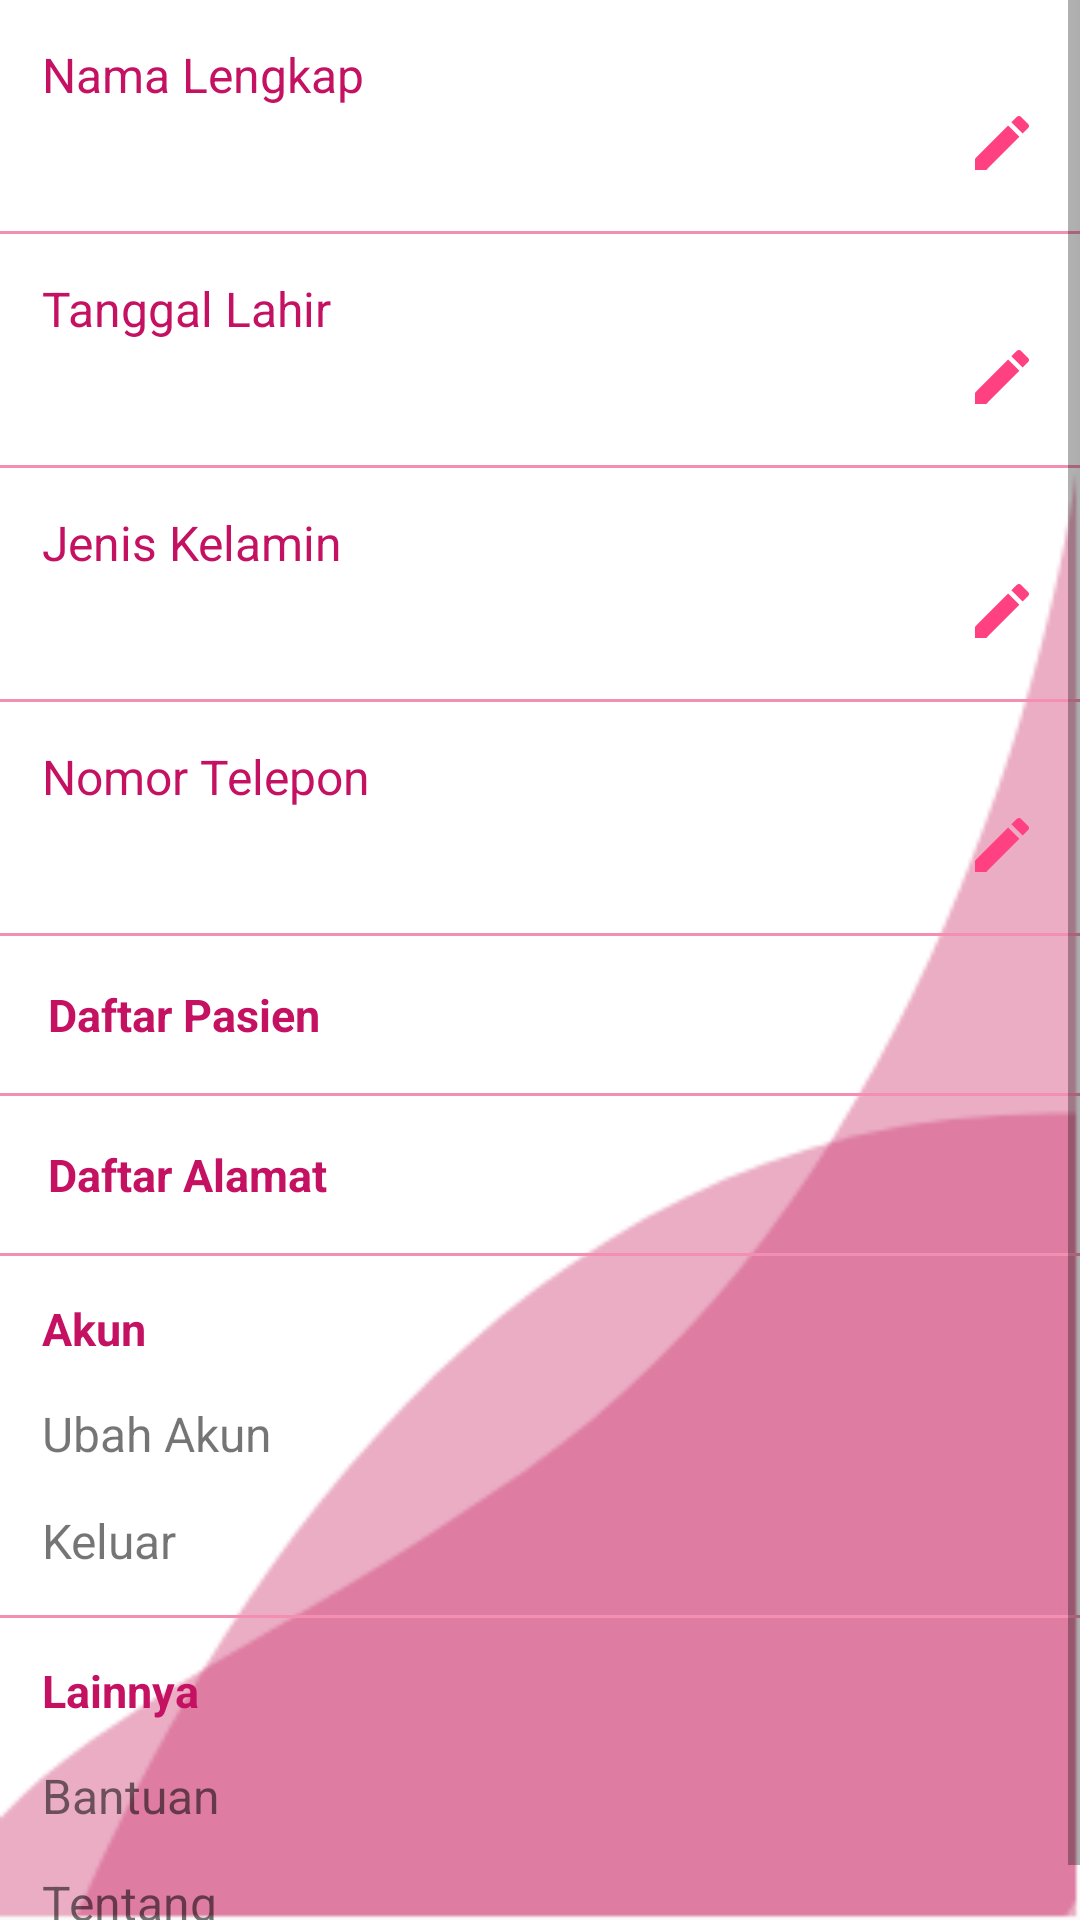

Point at icon controls on the screen. Image size 1080 × 1920, points as point (x, y).
edit: point (1002, 143), point (1002, 377), point (1002, 611), point (1002, 845)
